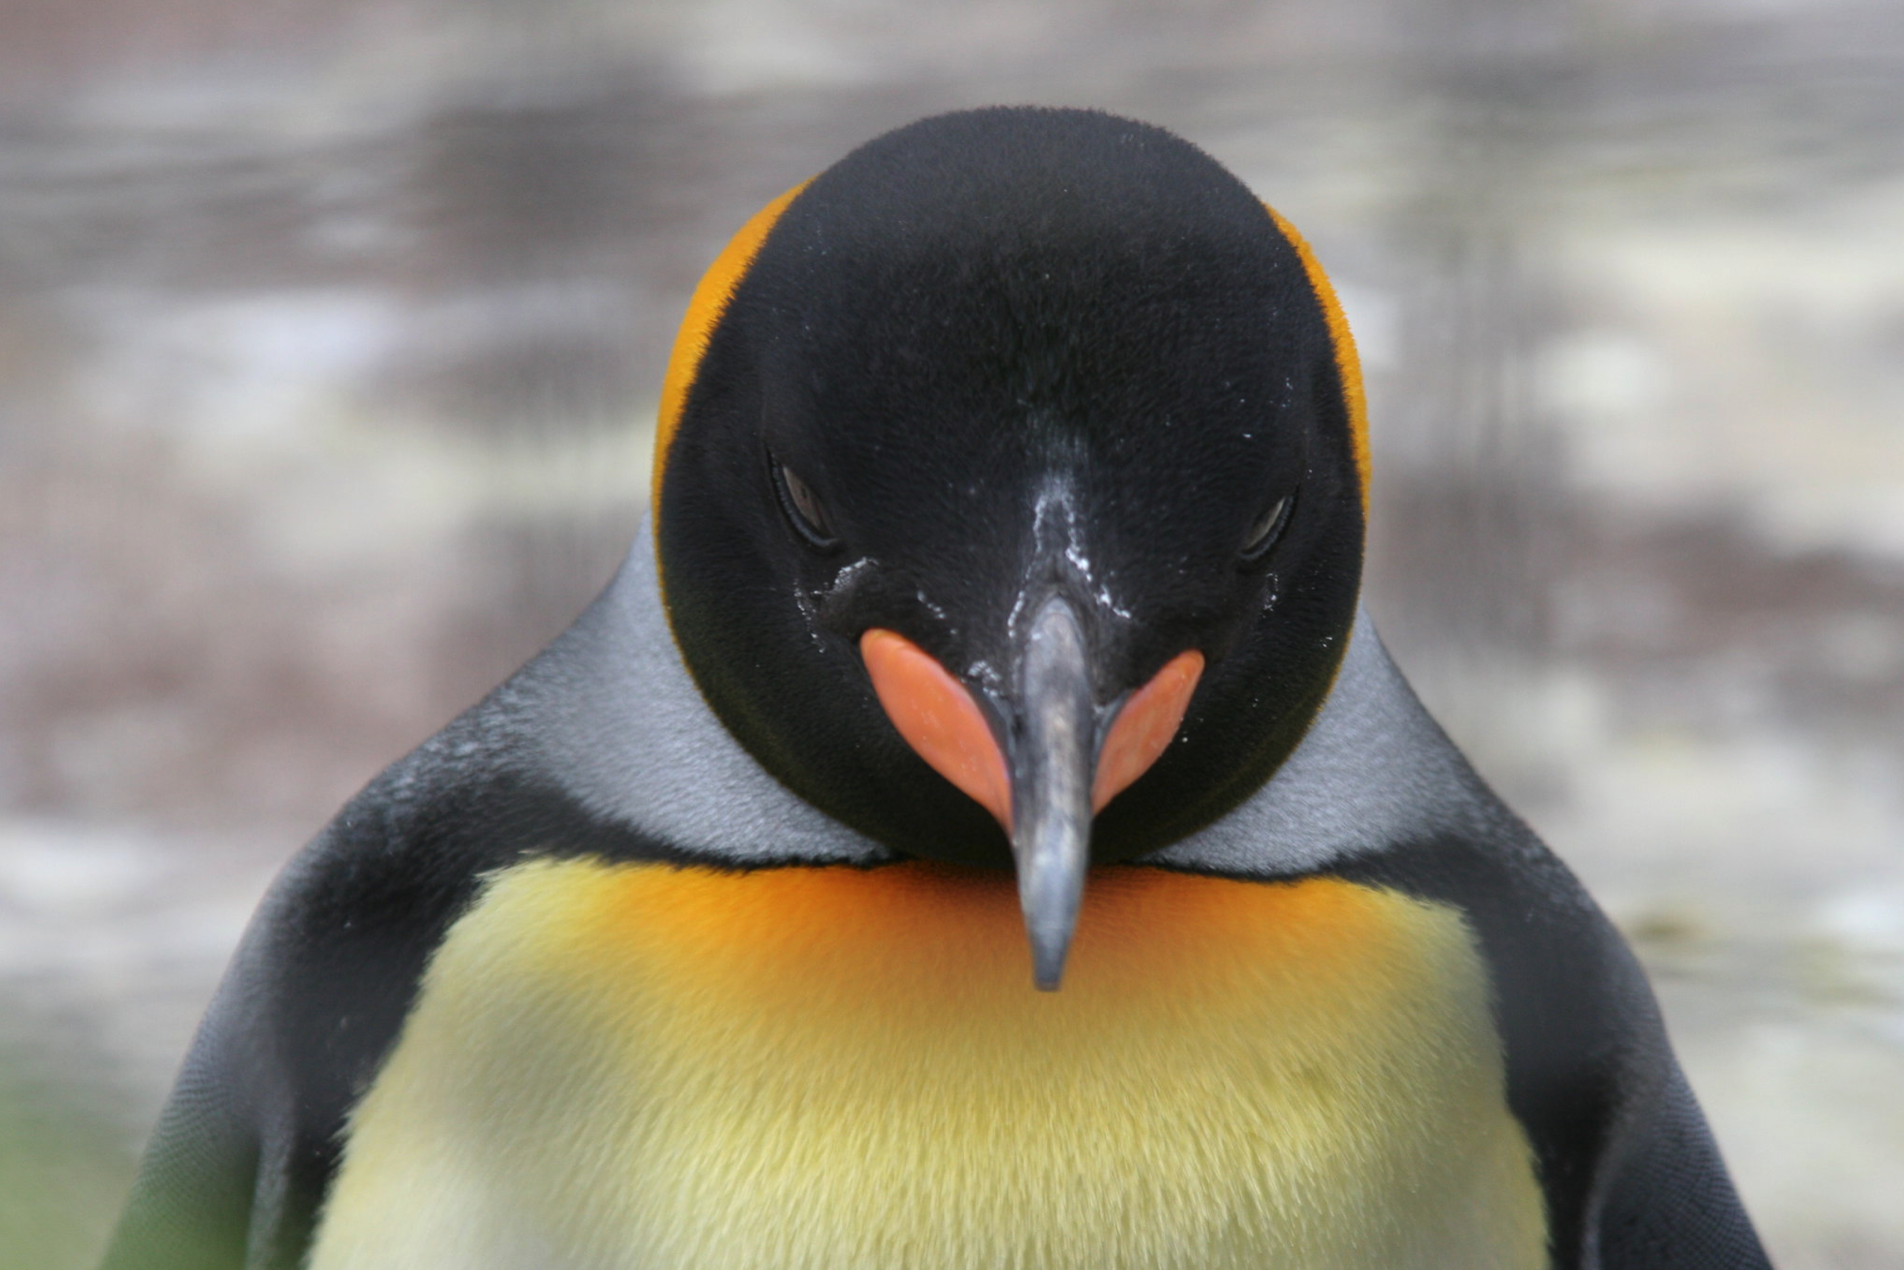penguin: (142, 108, 1761, 1270)
